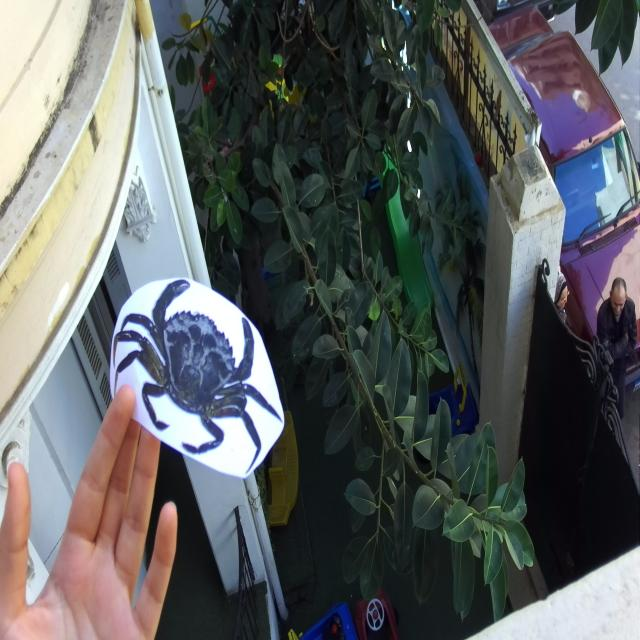European_Green_Crab: (102, 241, 299, 506)
